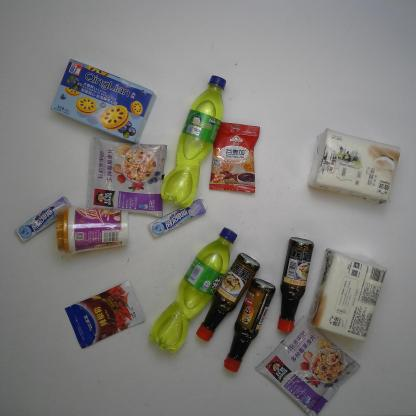Candy: (13, 196, 70, 244), (147, 197, 209, 239)
Dessert: (47, 56, 159, 146)
Drink: (145, 224, 240, 356), (159, 73, 230, 209)
Instant Drink: (252, 312, 363, 416), (80, 133, 168, 220), (207, 118, 262, 198), (54, 203, 132, 257)
Seasoner: (61, 278, 148, 352), (193, 250, 262, 343), (222, 276, 276, 375), (275, 235, 315, 334)
Tissue: (306, 245, 390, 345), (306, 126, 402, 207)
